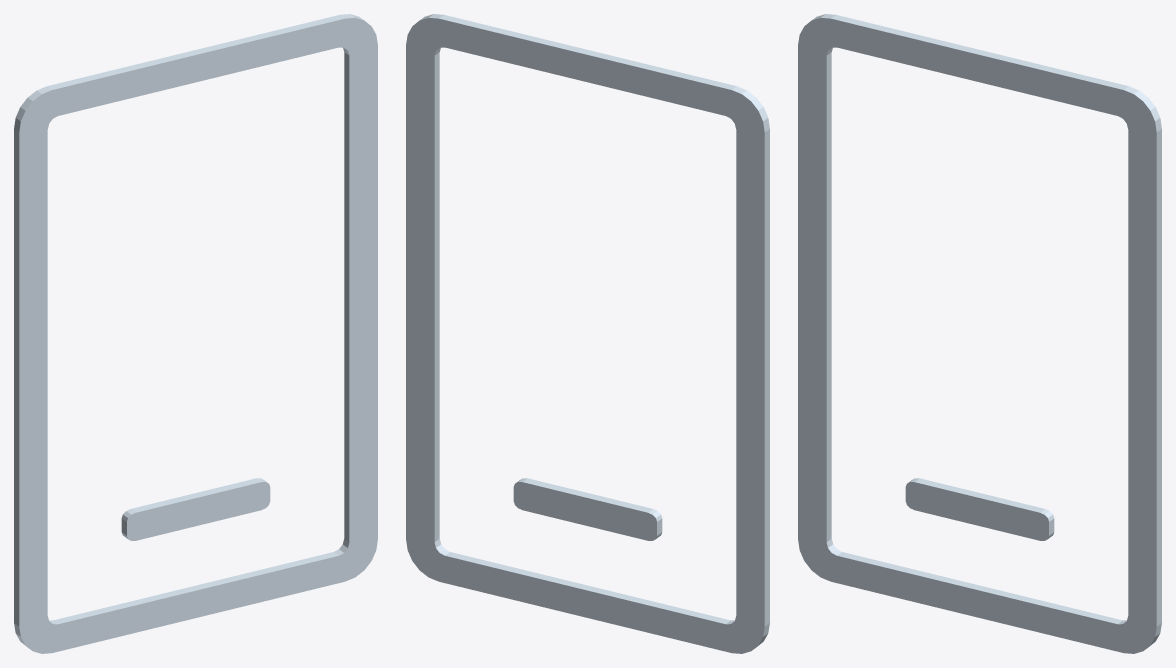
Rendered from Phone_3D_Icon_01.fbx.
3 renders of one model, left to right at view 1: azimuth 30°, elevation 25°; view 2: azimuth 150°, elevation 25°; view 3: azimuth 330°, elevation 25°, orthographic.
Parts seen in each view (by area): view 1: Phone_3D_Icon_01; view 2: Phone_3D_Icon_01; view 3: Phone_3D_Icon_01.
Part boxes in pixels (bbox=[...]): Phone_3D_Icon_01: bbox=[14, 14, 377, 653]; Phone_3D_Icon_01: bbox=[406, 14, 769, 653]; Phone_3D_Icon_01: bbox=[798, 14, 1161, 653].
Size of the model in its own units: 79.2 by 119 by 2.
